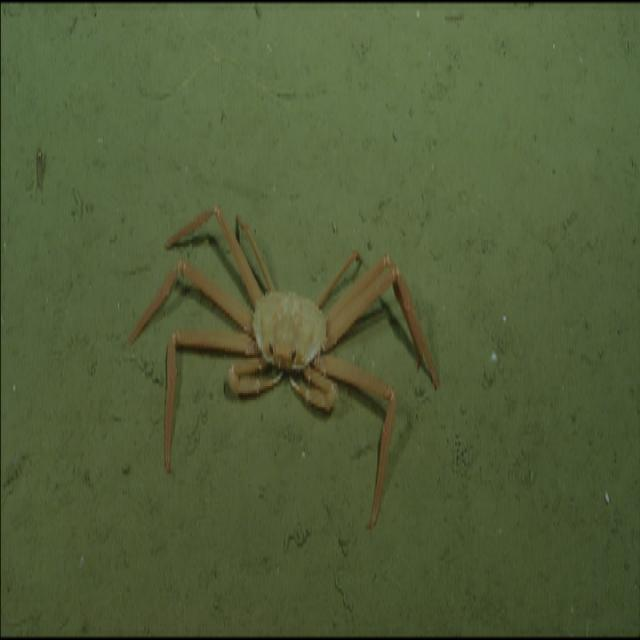Brittle Star: (149, 16, 297, 160)
Not Brittle Star: (129, 202, 436, 523)
